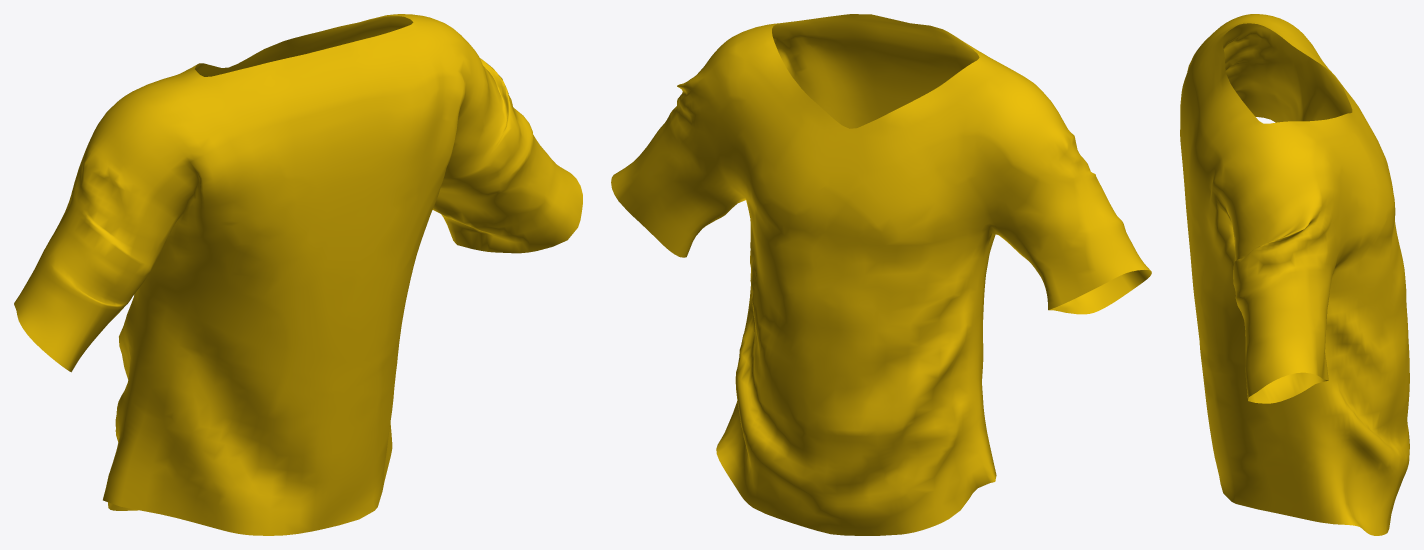
The model's file is t-shirt.fbx.
3 renders of one model, left to right at view 1: azimuth 30°, elevation 25°; view 2: azimuth 150°, elevation 25°; view 3: azimuth 270°, elevation 25°, orthographic. The views are drawn at different scales.
Parts seen in each view (by area): view 1: T_shirt; view 2: T_shirt; view 3: T_shirt.
Boxes of the visible parts, <box> form: T_shirt: <box>14,14,582,535</box>; T_shirt: <box>611,14,1151,535</box>; T_shirt: <box>1180,14,1409,535</box>.
Bounding box in the file's own units: 7.2 × 6.1 × 2.83.
